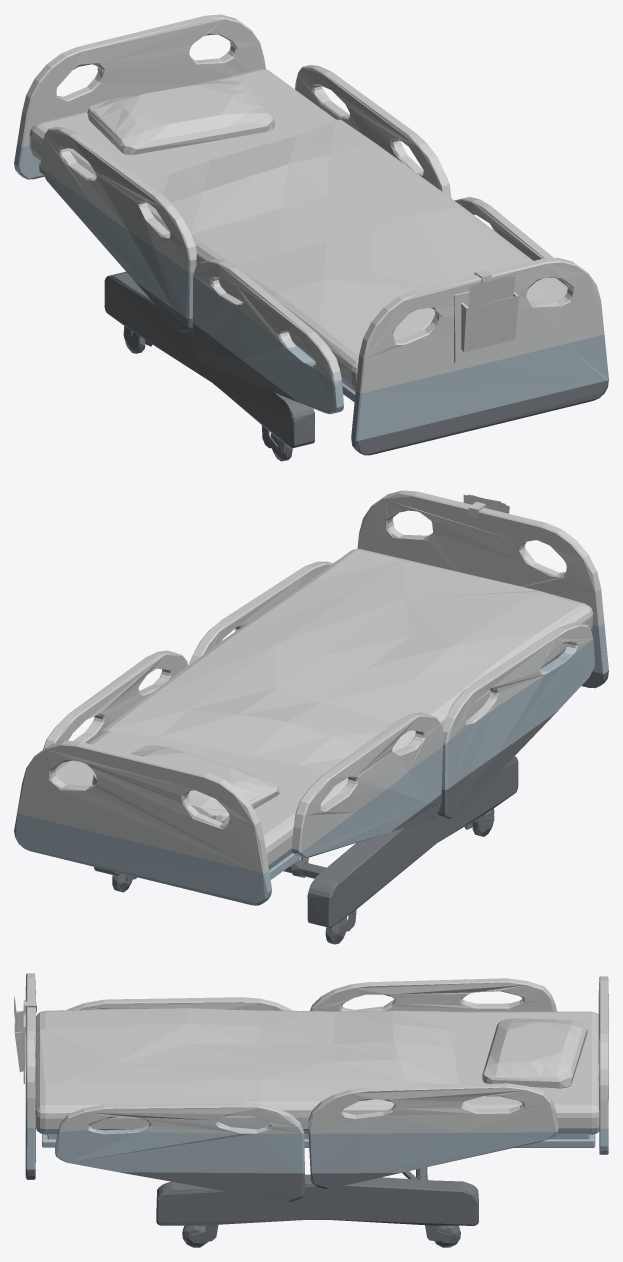
The model's file is hp_bed.glb.
3 renders of one model, top to bottom at view 1: azimuth 30°, elevation 25°; view 2: azimuth 150°, elevation 25°; view 3: azimuth 270°, elevation 25°, orthographic. The views are drawn at different scales.
Parts seen in each view (by area): view 1: Bed; view 2: Bed; view 3: Bed.
Boxes of the visible parts, x1,y1,x2,y2 form: Bed: [14, 14, 608, 461]; Bed: [14, 490, 608, 944]; Bed: [14, 973, 608, 1247].
Size of the model in its own units: 1.02 by 0.8492 by 2.31.
